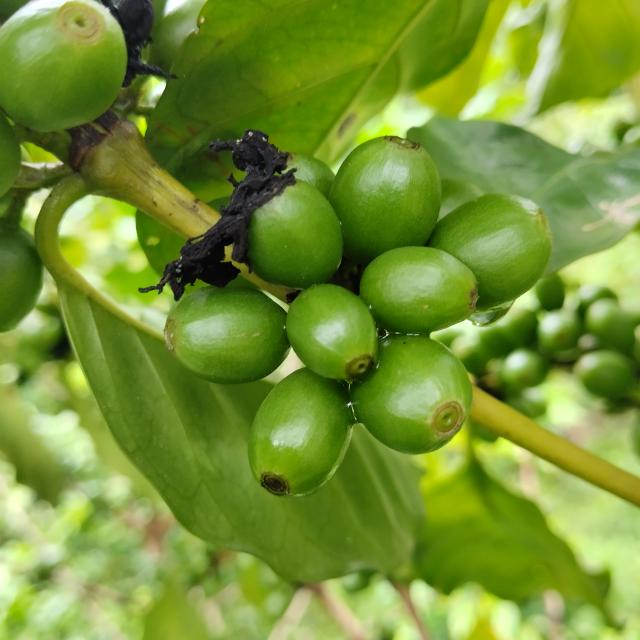green: (0, 0, 126, 131), (350, 334, 473, 455), (428, 193, 553, 310), (329, 135, 442, 264), (248, 368, 356, 497), (164, 285, 290, 384), (360, 246, 479, 334), (248, 179, 343, 288), (286, 284, 378, 381), (287, 152, 335, 197)
